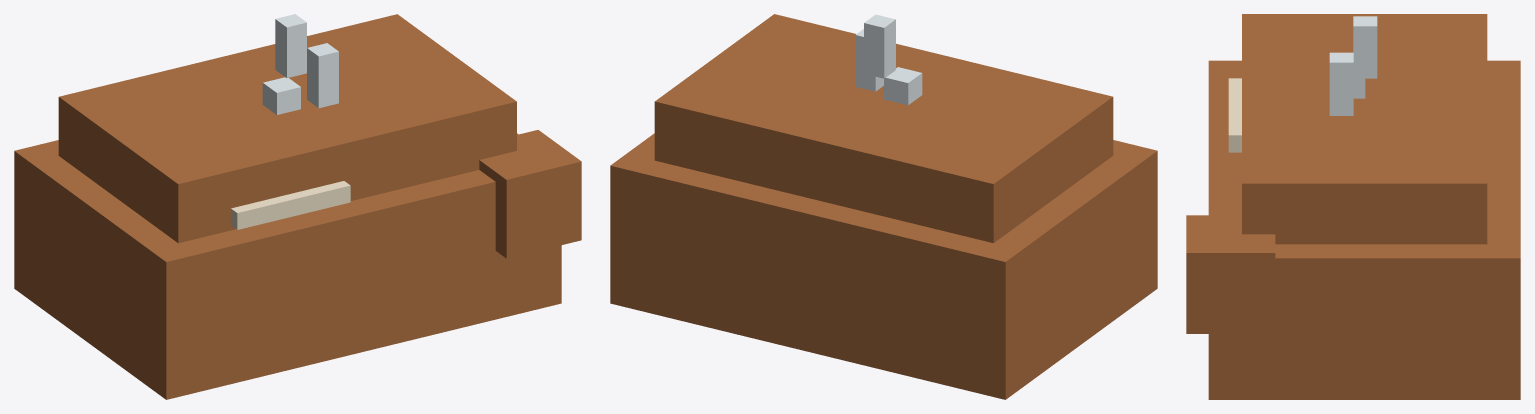
Rendered from product_braised_fillet.glb.
3 views of the same model, side by side, from view 1: azimuth 30°, elevation 25°; view 2: azimuth 150°, elevation 25°; view 3: azimuth 270°, elevation 25° (orthographic). The views are drawn at different scales.
Visible parts, largest first — view 1: ProductArt_body, ProductArt_steam, ProductArt_label; view 2: ProductArt_body, ProductArt_steam; view 3: ProductArt_body, ProductArt_steam, ProductArt_label.
Boxes of the visible parts, box(x1,y1,x2,y2) form: ProductArt_body: box(14, 14, 581, 399); ProductArt_steam: box(262, 14, 338, 114); ProductArt_label: box(231, 181, 350, 229); ProductArt_body: box(610, 14, 1157, 399); ProductArt_steam: box(855, 14, 922, 105); ProductArt_body: box(1186, 14, 1520, 399); ProductArt_steam: box(1329, 16, 1377, 115); ProductArt_label: box(1228, 78, 1241, 152).
Size of the model in its own units: 0.24 by 0.1554 by 0.1674.
